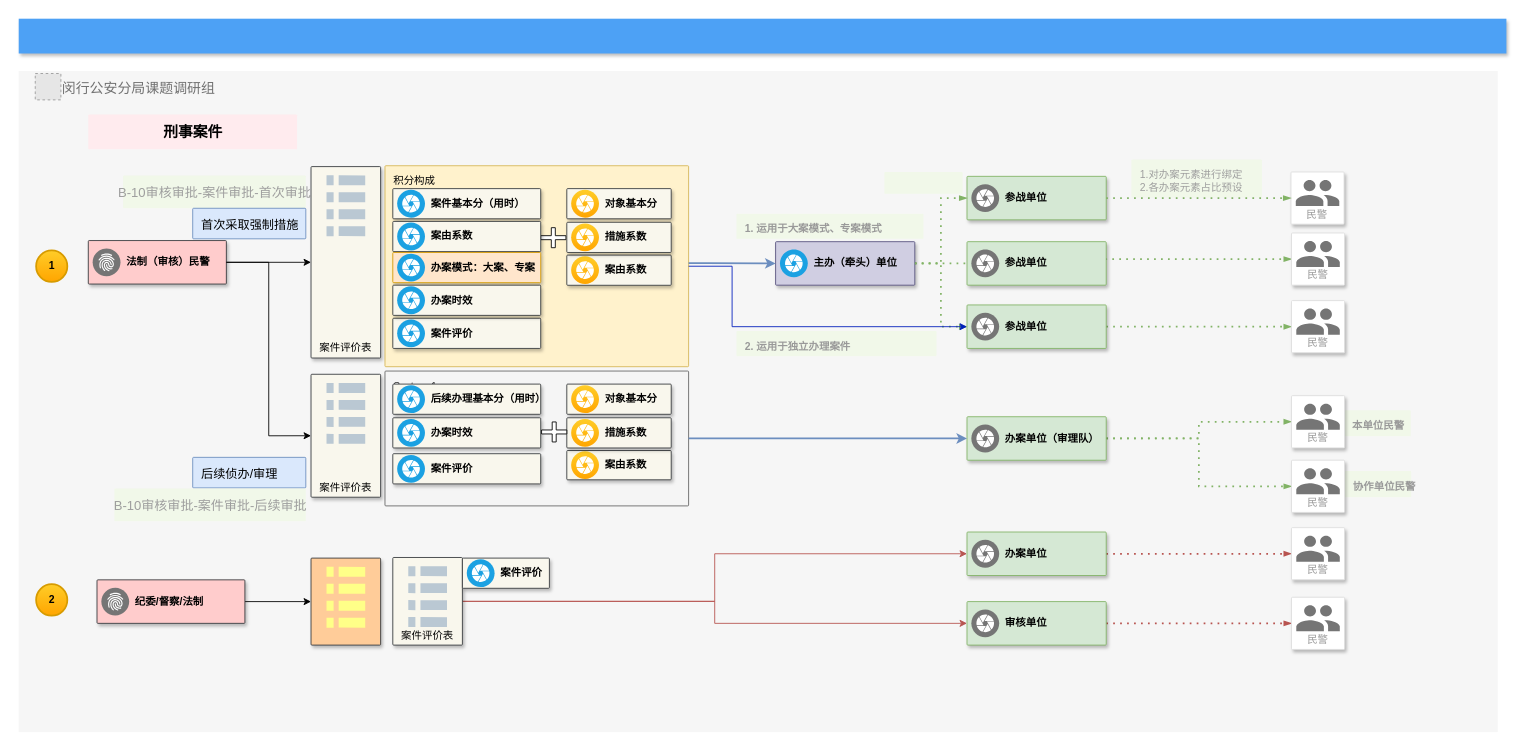
This 1526x746 diagram has some shape labels left out. Grey dashed boxes stand in for pictures. The shapes that lost their labels are listed below. From the top down, each one's centre as x and y in pixels, then its label:
At (763,37): "积分系统--业务抽象流程图".
At (923,182): "默认平均分配".
At (346,602): "通报批评".
